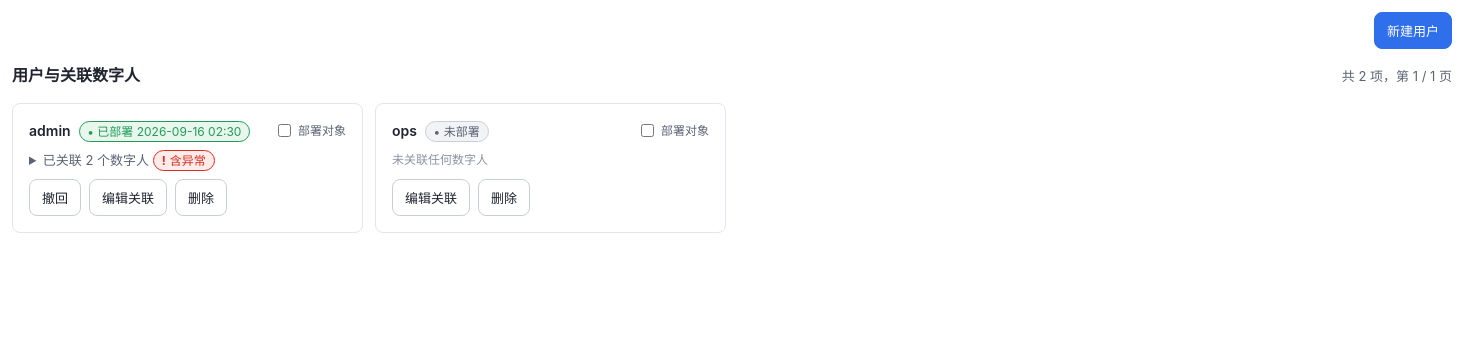
Test case: UserCardList › 展开后可看到搭配摘要（MCP / 工具 / SKILL）与异常标记（FR-023）
Click the heading "已关联 2 个数字人 ! 含异常": (129, 161) [43,150,215,171]
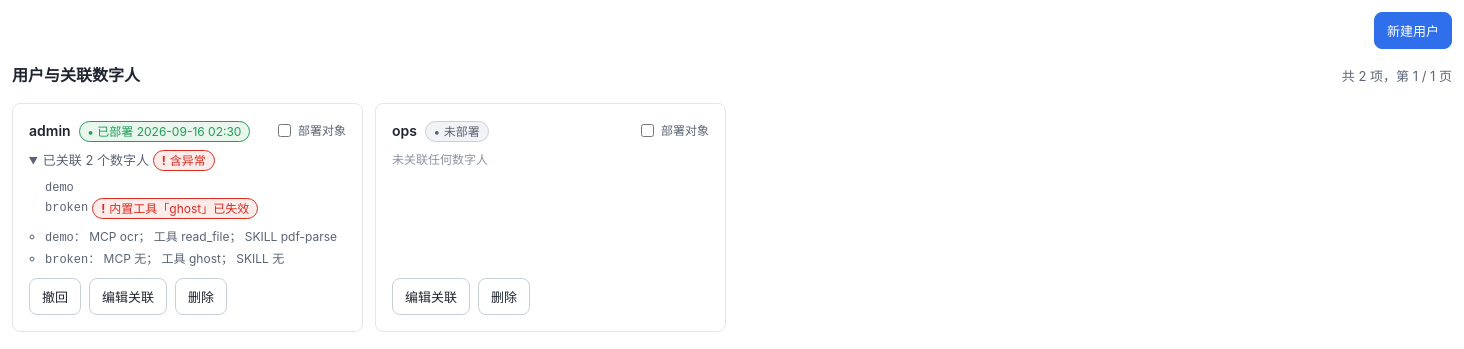
Expected: the text "MCP ocr" is shown, [74,229,337,244]
Expected: the text "工具 read_file" is shown, [74,229,337,244]
Expected: the text "SKILL pdf-parse" is shown, [74,229,337,244]
